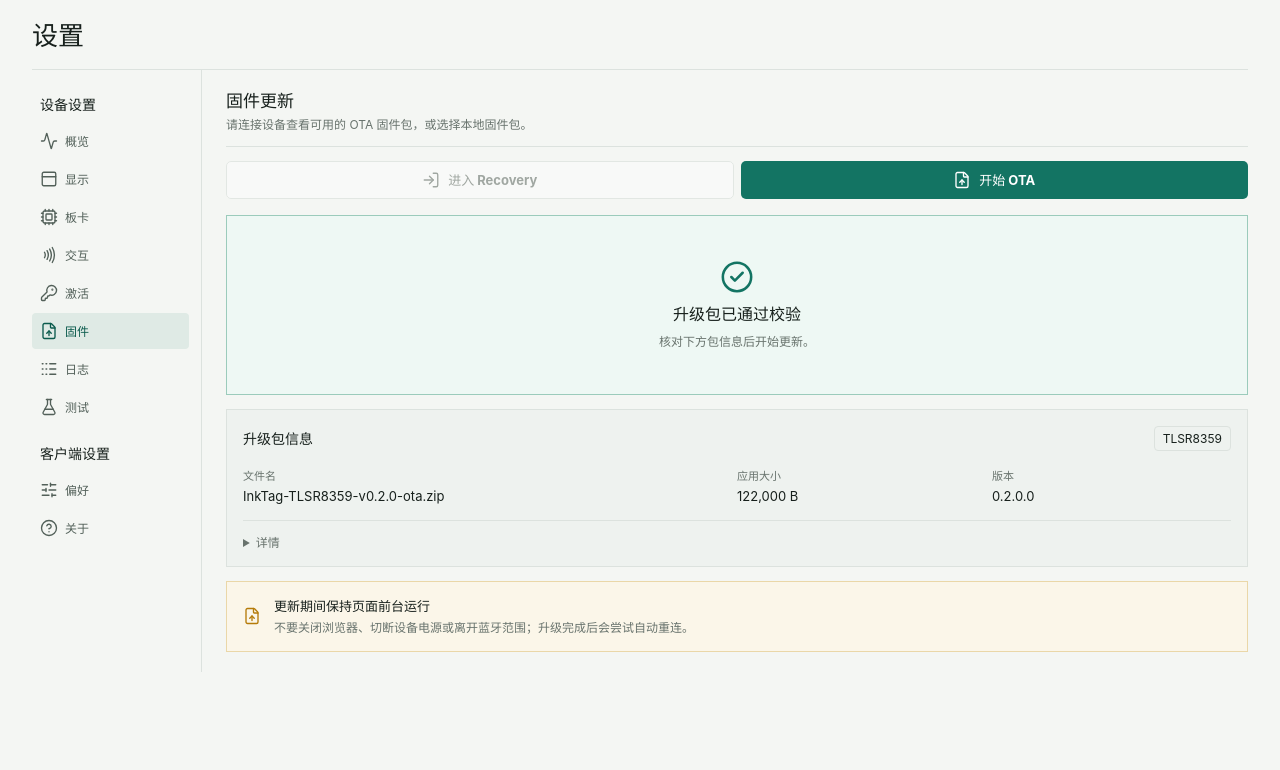
Scenario: keeps the verified package after TLSR discovery loss and offers an explicit Recovery selection
Earlier steps of the test are not shown.
Later steps or results of the test are not shown.
Click the button "开始 OTA".
click(994, 180)  # box [740,161,1248,199]
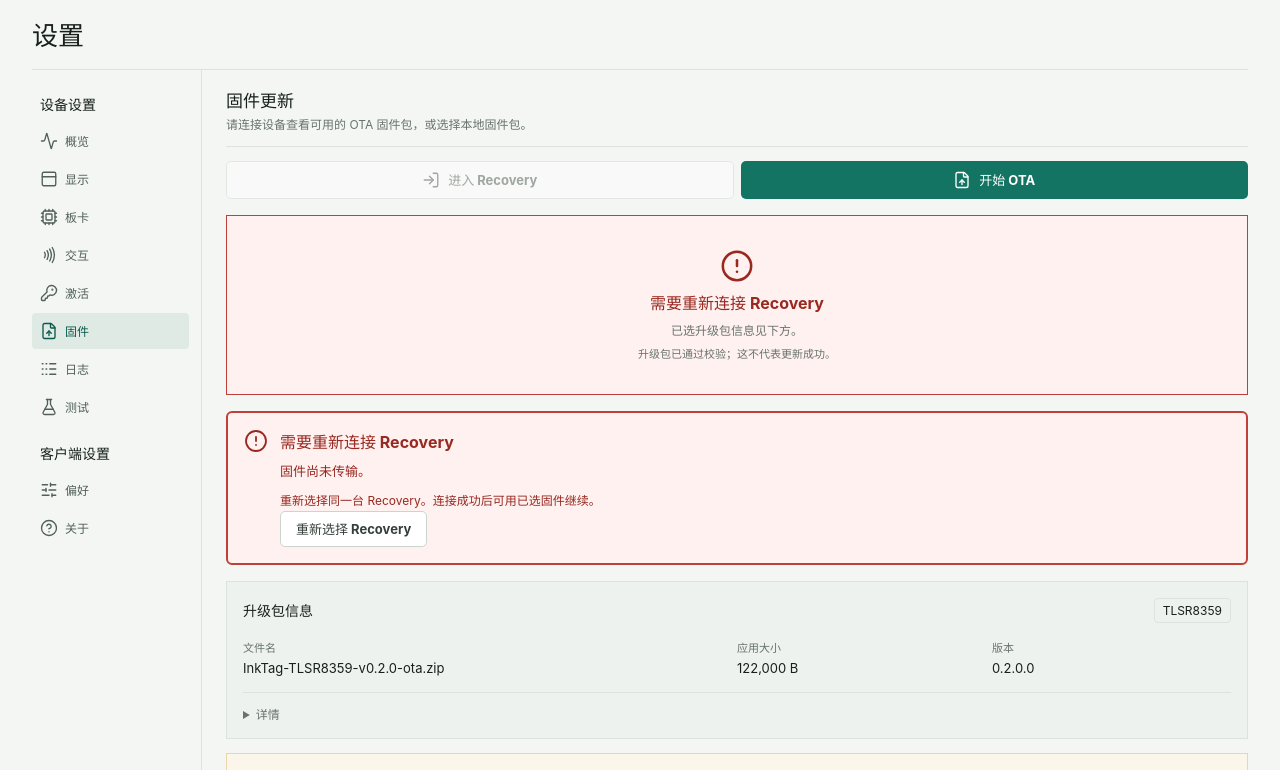
Result: the message with class "ota-failure" shows "需要重新连接 Recovery" at [280,432,454,452]
